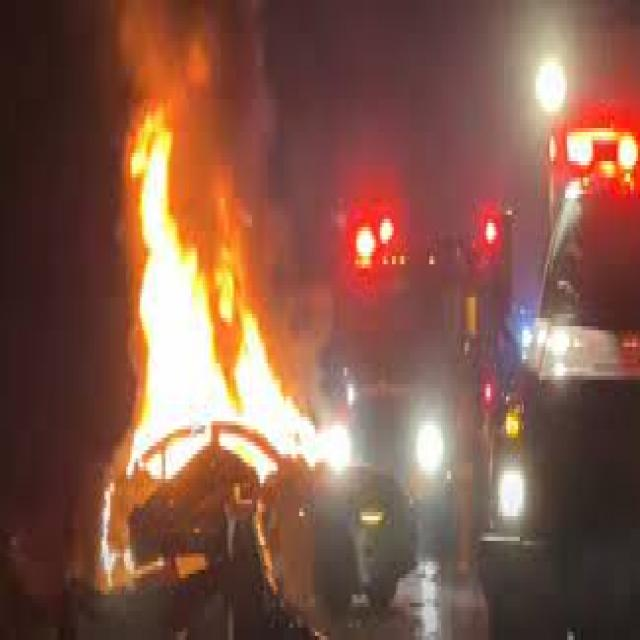fire: (124, 116, 317, 483)
smoke: (238, 82, 335, 372), (108, 4, 286, 112)
